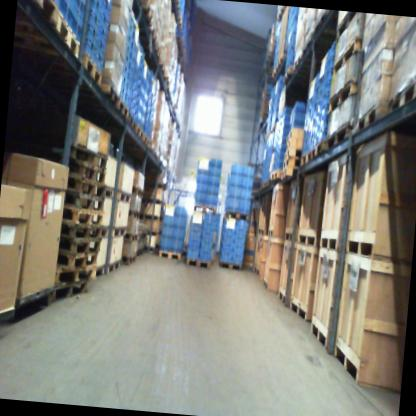pallet: (331, 335, 366, 388), (51, 9, 83, 59), (332, 36, 363, 80), (356, 98, 390, 136), (389, 72, 416, 116), (68, 144, 109, 172), (327, 79, 358, 116), (54, 265, 96, 292), (56, 248, 99, 273), (16, 0, 59, 24), (57, 237, 101, 260), (345, 230, 376, 262), (324, 121, 353, 154), (79, 51, 104, 87), (65, 179, 107, 200), (68, 162, 108, 184), (60, 222, 102, 242), (53, 280, 88, 304), (335, 11, 357, 46), (63, 196, 105, 214), (98, 79, 121, 110), (309, 315, 329, 350), (62, 209, 103, 226), (288, 295, 313, 321), (217, 256, 243, 273), (319, 232, 340, 253), (311, 138, 329, 162), (296, 232, 318, 250), (283, 146, 303, 164), (222, 210, 250, 222), (282, 156, 301, 173), (301, 147, 313, 173), (193, 203, 217, 215), (140, 1, 153, 23), (186, 258, 211, 269), (158, 250, 182, 261), (117, 99, 130, 119), (116, 189, 133, 204), (281, 167, 299, 181), (134, 123, 146, 142), (92, 264, 106, 280), (107, 259, 121, 274), (301, 39, 312, 58), (126, 113, 137, 132), (276, 52, 286, 72), (112, 226, 126, 239), (293, 55, 303, 73), (284, 67, 293, 86), (132, 185, 144, 199), (270, 169, 282, 182), (128, 208, 141, 220), (278, 289, 287, 306), (104, 186, 114, 201), (123, 254, 136, 265), (143, 198, 163, 205), (286, 128, 294, 145), (101, 224, 109, 239), (143, 134, 151, 149), (284, 230, 293, 243), (124, 233, 138, 241), (146, 214, 160, 222), (263, 278, 269, 292), (257, 227, 265, 237), (267, 228, 274, 239), (253, 266, 260, 277), (152, 229, 161, 237), (286, 141, 292, 152), (263, 179, 269, 188)
small_load_carrier: (237, 187, 252, 216), (196, 158, 210, 175), (173, 215, 188, 230), (161, 210, 175, 226), (158, 237, 175, 250), (171, 239, 186, 253), (204, 196, 220, 209), (227, 186, 241, 200), (225, 199, 240, 212), (159, 225, 174, 238), (193, 194, 206, 208), (199, 240, 213, 253), (230, 161, 242, 176), (222, 223, 237, 235), (186, 248, 201, 260), (241, 176, 254, 189), (218, 250, 231, 263), (245, 164, 257, 178), (195, 173, 209, 185), (172, 228, 186, 240), (231, 243, 246, 254), (199, 231, 214, 242), (229, 175, 242, 187), (219, 241, 232, 253), (203, 219, 215, 232), (189, 217, 202, 229), (174, 205, 188, 216), (188, 228, 200, 240), (207, 175, 221, 185), (206, 184, 218, 195), (196, 184, 208, 195), (221, 233, 233, 244), (209, 157, 222, 167), (231, 253, 244, 263), (187, 239, 200, 249), (236, 218, 247, 229), (234, 234, 246, 244), (200, 252, 213, 261), (204, 211, 216, 220), (210, 168, 221, 176), (234, 228, 246, 235)
